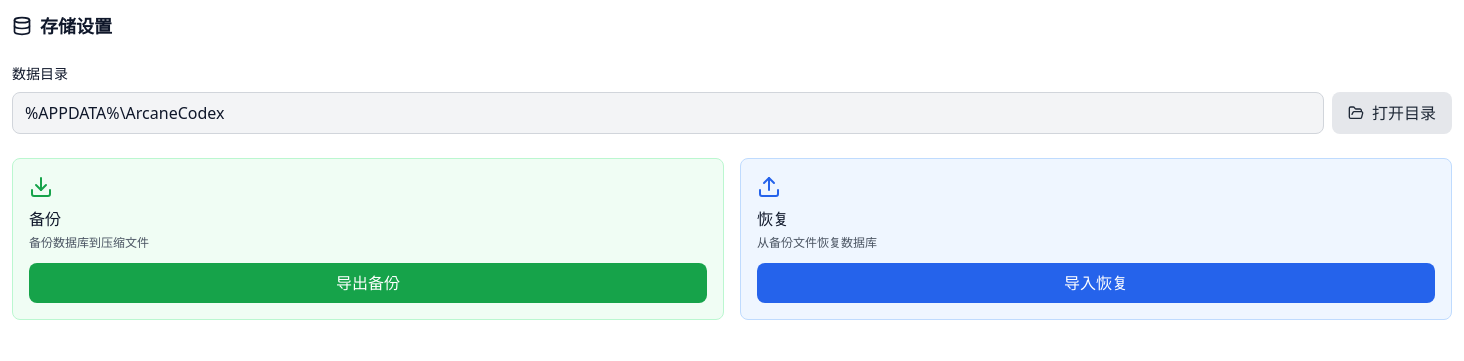
it: StorageConfig › 备份成功后应显示成功消息
What coordinates should you click on to do the following:
click the button "导出备份"
I would click on:
 (368, 283)
Its box is [29,263,707,303].
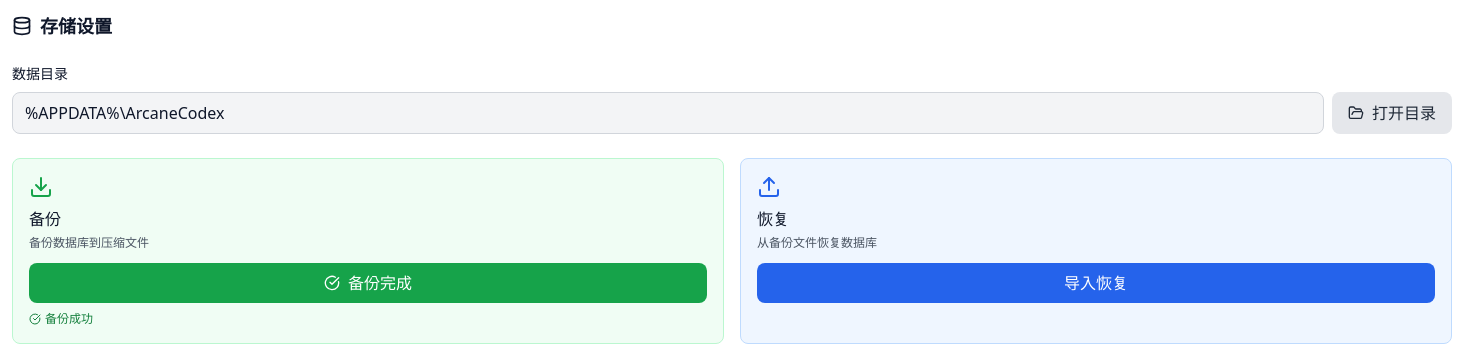
Expected: the text "备份成功" is shown, [29,310,93,327]
